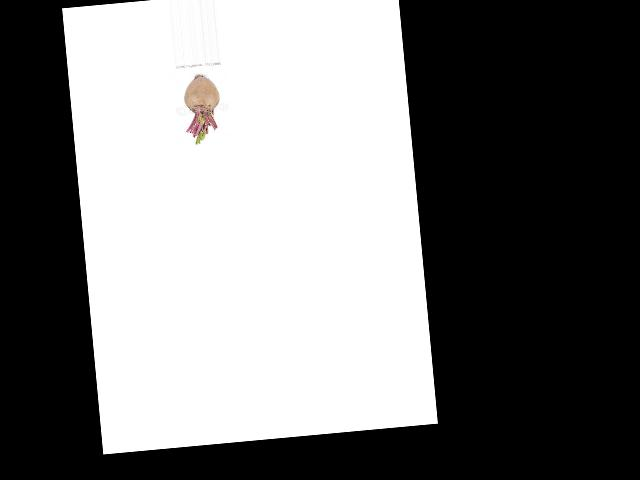beet: (181, 73, 224, 145)
